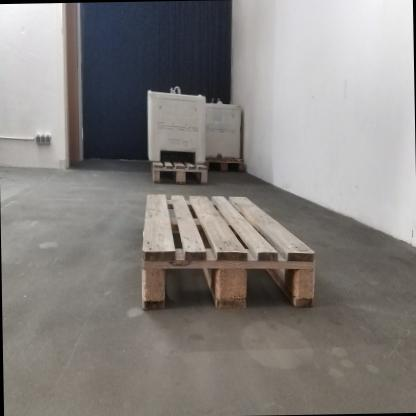BoxFace: (138, 188, 318, 314)
